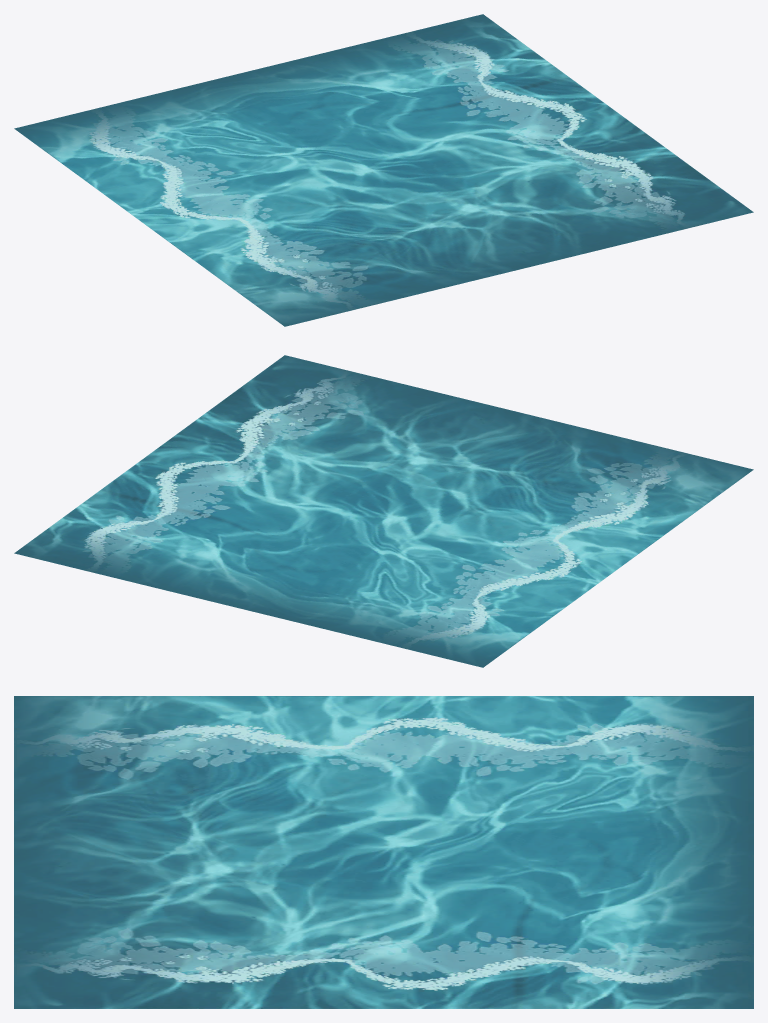
The model's file is water 1.fbx.
The picture shows the model from 3 angles, top to bottom: view 1: azimuth 30°, elevation 25°; view 2: azimuth 150°, elevation 25°; view 3: azimuth 270°, elevation 25°; orthographic projection. The views are drawn at different scales.
Visible parts, largest first — view 1: water; view 2: water; view 3: water.
Part boxes in pixels (x1=…): water: x1=14, y1=14, x2=753, y2=326; water: x1=14, y1=355, x2=753, y2=667; water: x1=14, y1=696, x2=753, y2=1008.
Size of the model in its own units: 200 by 7.15e-05 by 200.
